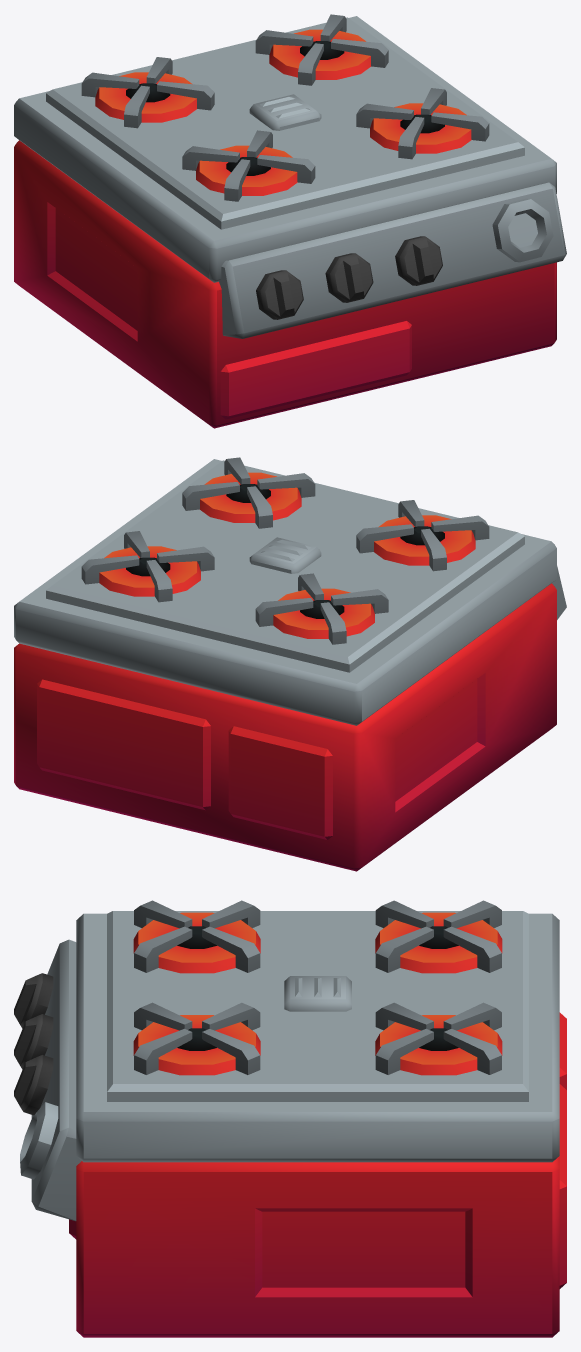
File: Stove with multi burner.glb
The picture shows the model from 3 angles, top to bottom: view 1: azimuth 30°, elevation 25°; view 2: azimuth 150°, elevation 25°; view 3: azimuth 270°, elevation 25°; orthographic projection. The views are drawn at different scales.
Visible parts, largest first — view 1: stove_multi; view 2: stove_multi; view 3: stove_multi.
Boxes of the visible parts, bbox=[...] form: stove_multi: bbox=[14, 14, 566, 428]; stove_multi: bbox=[14, 457, 566, 871]; stove_multi: bbox=[14, 900, 566, 1337].
Size of the model in its own units: 2 by 1.2 by 2.29.
1 material, 1 textured.
